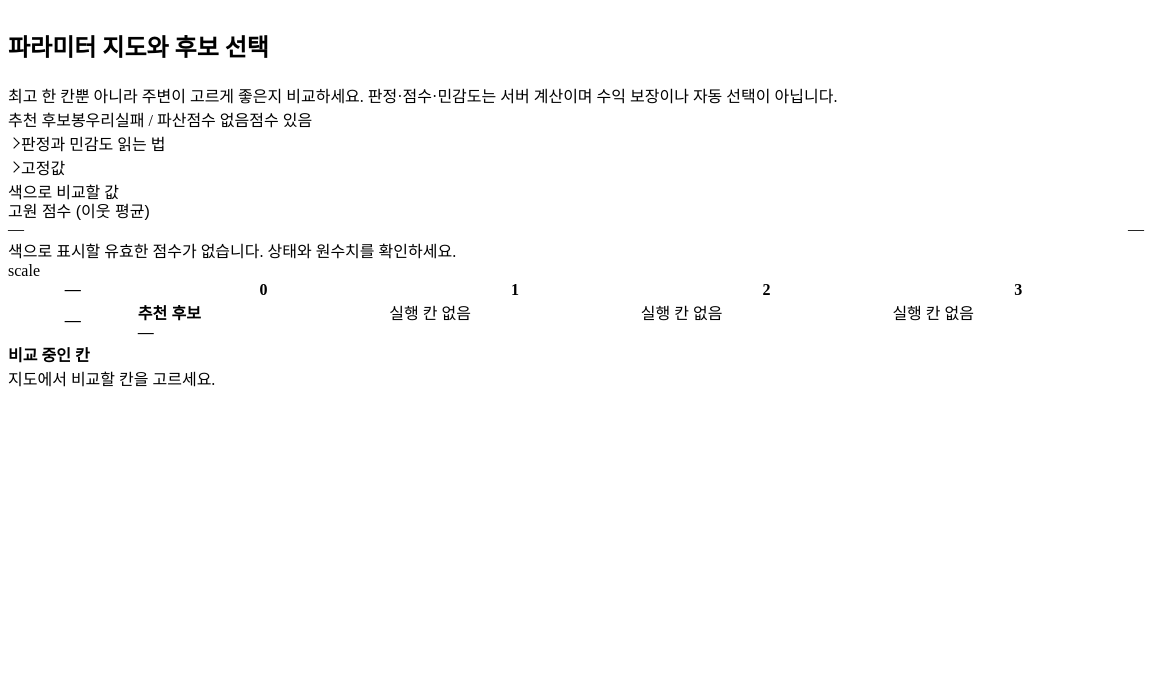
it: 파라미터 지도와 명시적 후보 선택 › 같은 유효값은 한 색이라고 안내하고 결측은 0으로 바꾸지 않으며 색 비교 기준을 명시 전환한다
Click the button with aria-label "scale 0 · 추천 후보" at coordinates (264, 321), box 138,300 -> 389,342
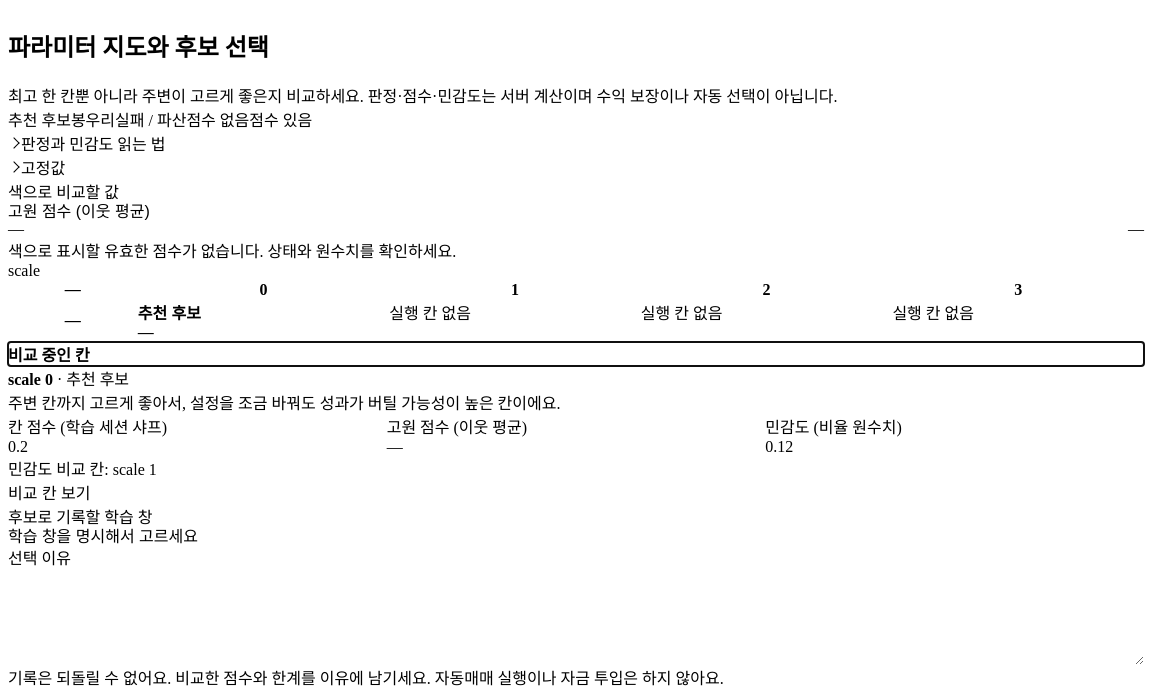
Expected: the text "색으로 표시할 유효한 점수가 없습니다. 상태와 원수치를 확인하세요." is shown, 8,243 -> 456,260
Select "칸 점수 (학습 세션 샤프)" in the dropdown labelled "색으로 비교할 값" at coordinates (232, 211), box 8,203 -> 456,220
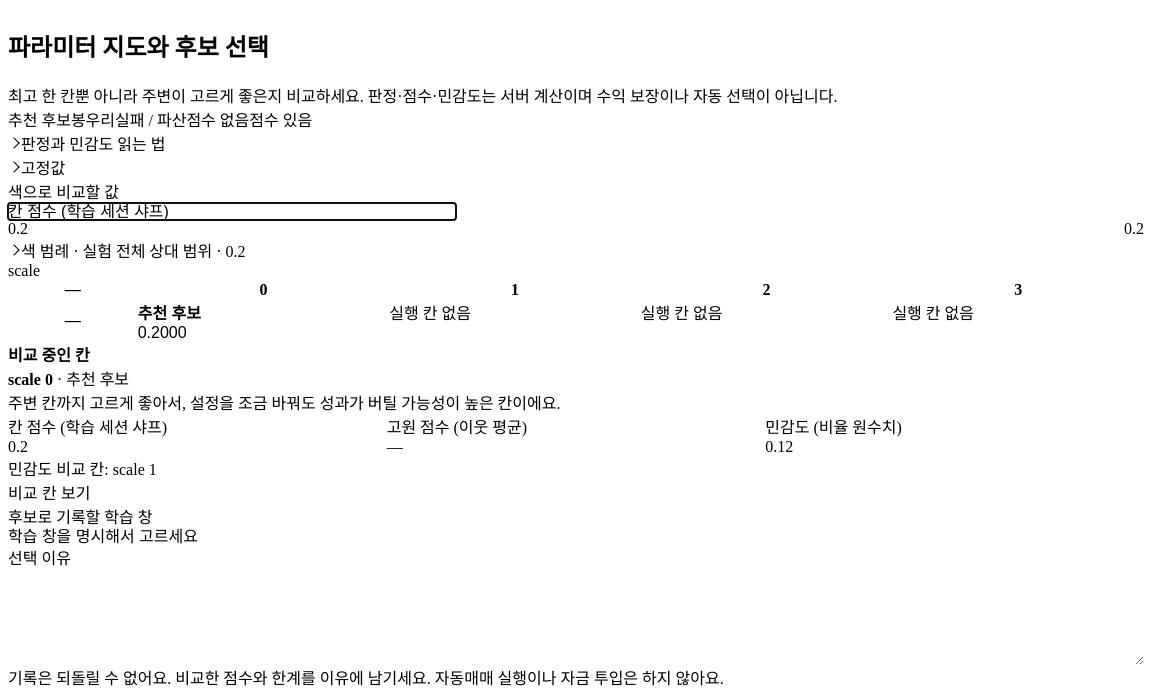
Now the button "추천 후보 0.2000" is shown, box 138,300 -> 389,342
Click the heading "색 범례 · 실험 전체 상대 범위 · 0.2" at coordinates (133, 251), box 21,243 -> 246,260
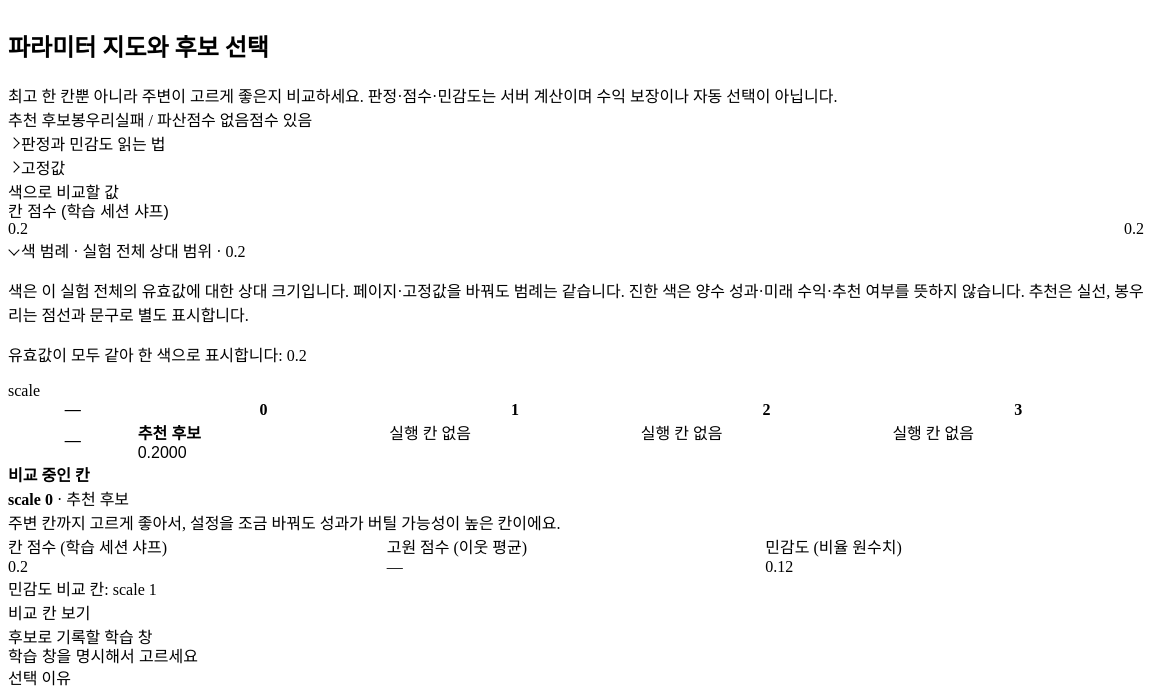
Now the text "유효값이 모두 같아 한 색으로 표시합니다: 0.2" is shown, box 8,347 -> 307,364
Now the text "진한 색은 양수 성과·미래 수익·추천 여부를 뜻하지 않습니다" is shown, box 8,283 -> 1144,324
